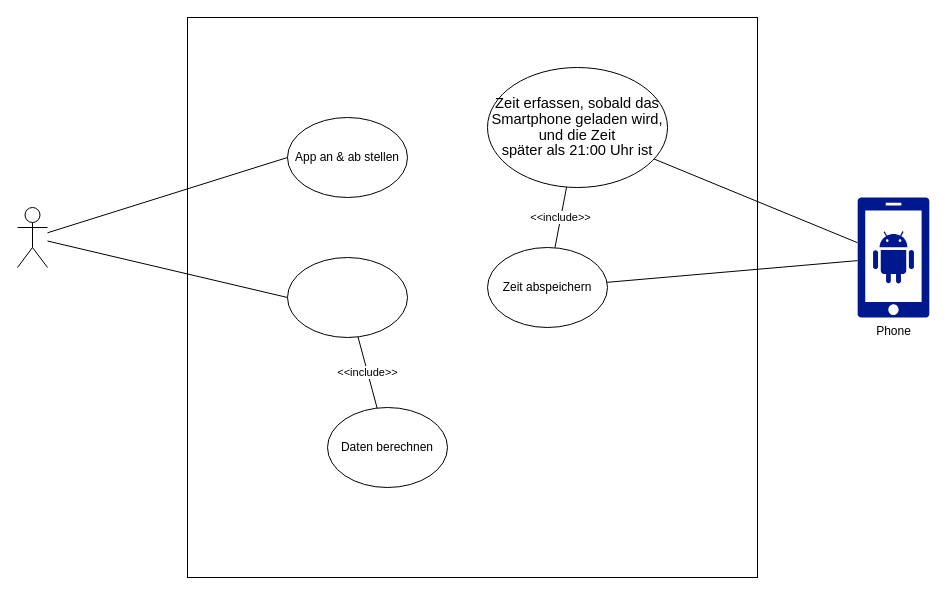
The diagram is 947 pixels wide and 595 high, and some of its shapes have lost their labels. The centre of each missing label's shape, as x and y in pixels:
"Daten Abrufen" goes at pixel 347 297.
"User" goes at pixel 32 237.
